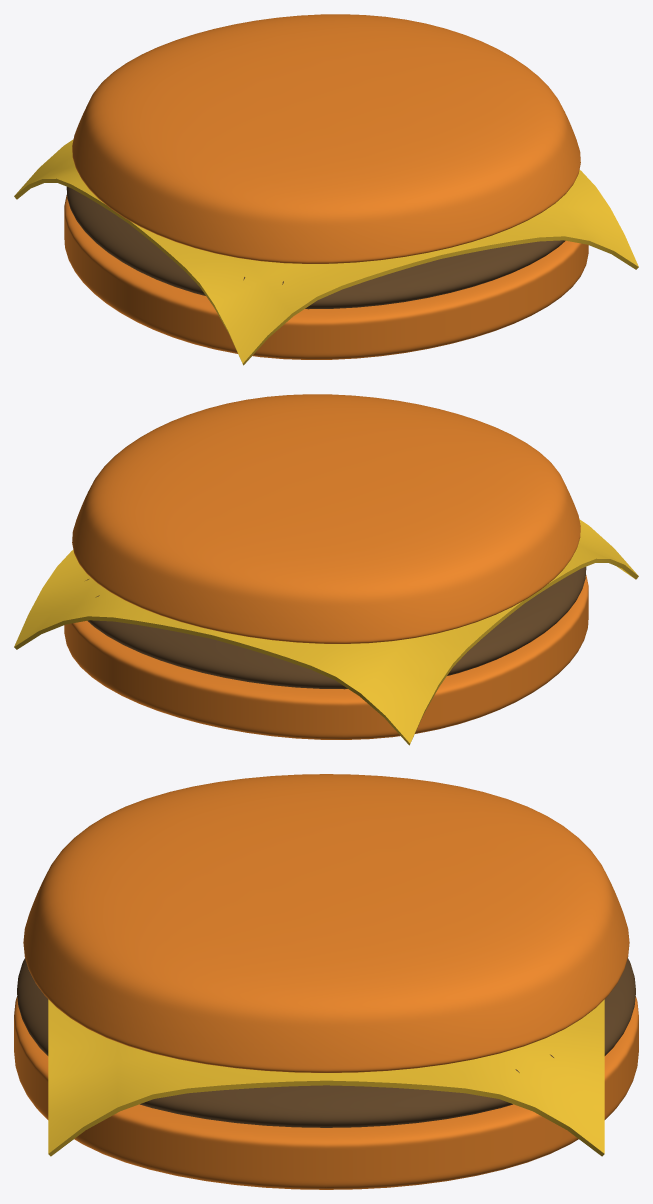
File: hamburger.glb
The picture shows the model from 3 angles, top to bottom: view 1: azimuth 30°, elevation 25°; view 2: azimuth 150°, elevation 25°; view 3: azimuth 270°, elevation 25°; orthographic projection. The views are drawn at different scales.
Parts seen in each view (by area): view 1: Cube.002, Cube, Plane, Cube.001; view 2: Cube.002, Cube, Plane, Cube.001; view 3: Cube.002, Cube, Plane, Cube.001.
Part boxes in pixels (x1,y1,x2,y2): Cube.002: [72, 14, 580, 263]; Cube: [64, 195, 588, 359]; Plane: [14, 139, 638, 365]; Cube.001: [66, 187, 565, 309]; Cube.002: [72, 394, 580, 643]; Cube: [64, 575, 588, 739]; Plane: [14, 519, 638, 745]; Cube.001: [85, 567, 586, 689]; Cube.002: [23, 774, 629, 1072]; Cube: [14, 996, 638, 1189]; Plane: [48, 999, 604, 1156]; Cube.001: [17, 958, 635, 1127].
Size of the model in its own units: 9.04 by 3.28 by 9.04.
